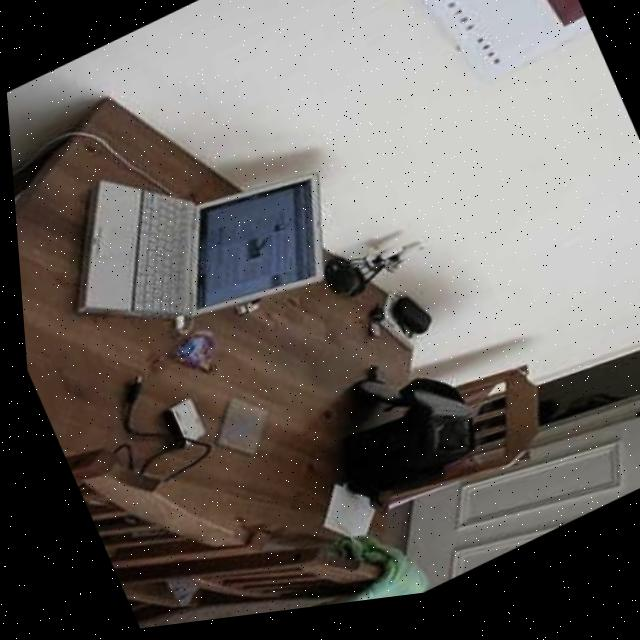laptop: (7, 90, 368, 407)
